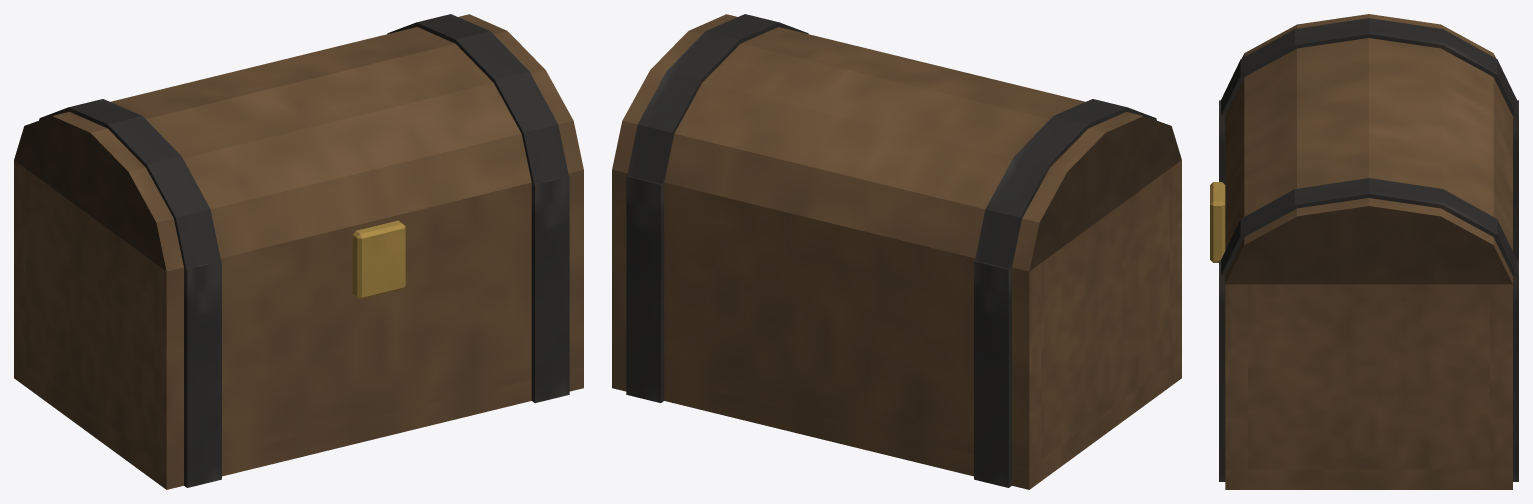
File: chest_loot.obj
3 views of the same model, side by side, from view 1: azimuth 30°, elevation 25°; view 2: azimuth 150°, elevation 25°; view 3: azimuth 270°, elevation 25° (orthographic). The views are drawn at different scales.
Parts seen in each view (by area): view 1: chest_loot, chest_loot_lid; view 2: chest_loot, chest_loot_lid; view 3: chest_loot_lid, chest_loot.
Part boxes in pixels (<box>): chest_loot: <box>14,160,583,489</box>; chest_loot_lid: <box>14,14,583,271</box>; chest_loot: <box>612,160,1181,489</box>; chest_loot_lid: <box>612,14,1181,271</box>; chest_loot_lid: <box>1221,14,1517,284</box>; chest_loot: <box>1210,100,1518,489</box>.
Bounding box in the file's own units: 0.6 × 0.4197 × 0.408.
1 material, 1 textured.
